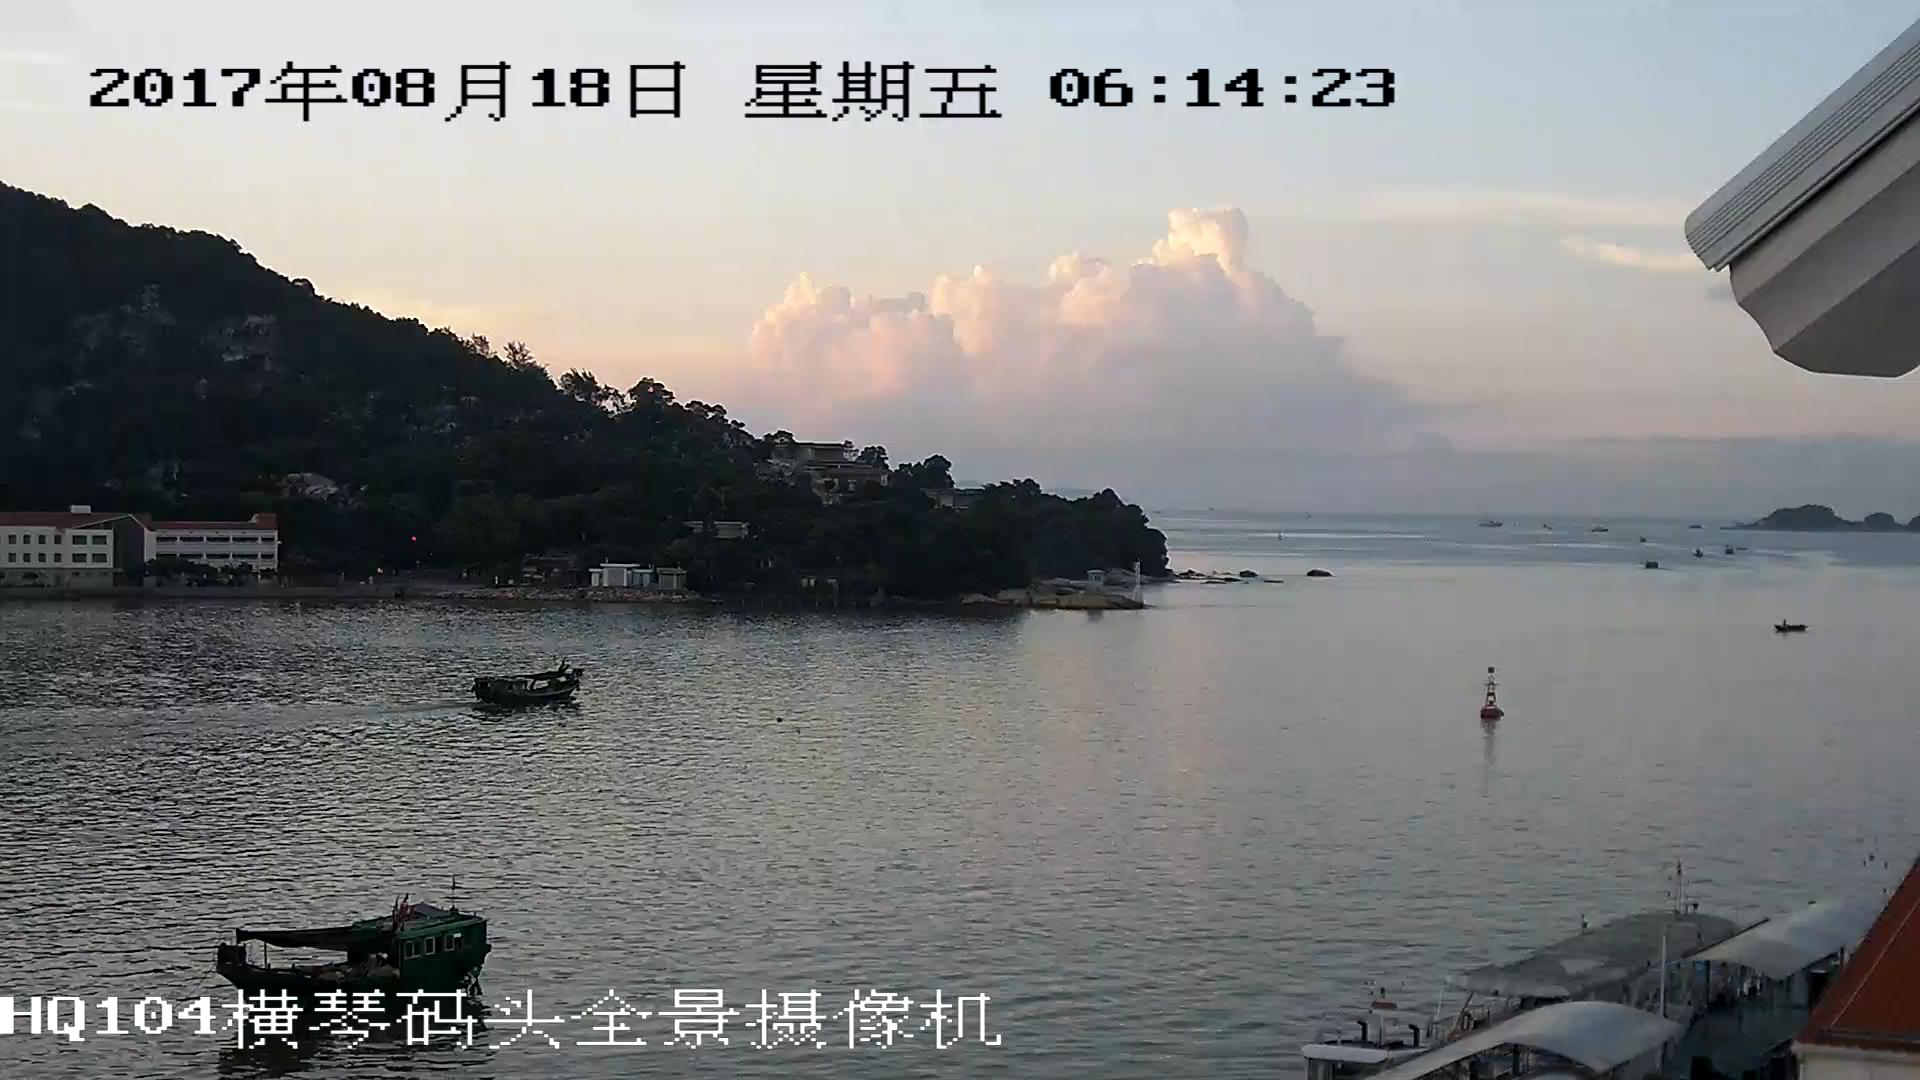fishing boat: (211, 910, 493, 990), (472, 665, 586, 708)
